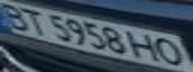5: (42, 11, 72, 43), (81, 20, 106, 52)
8: (103, 25, 130, 56)
9: (63, 16, 87, 46)
B: (0, 0, 33, 30)
H: (127, 30, 163, 62)
O: (151, 35, 190, 69)
T: (15, 7, 51, 36)
